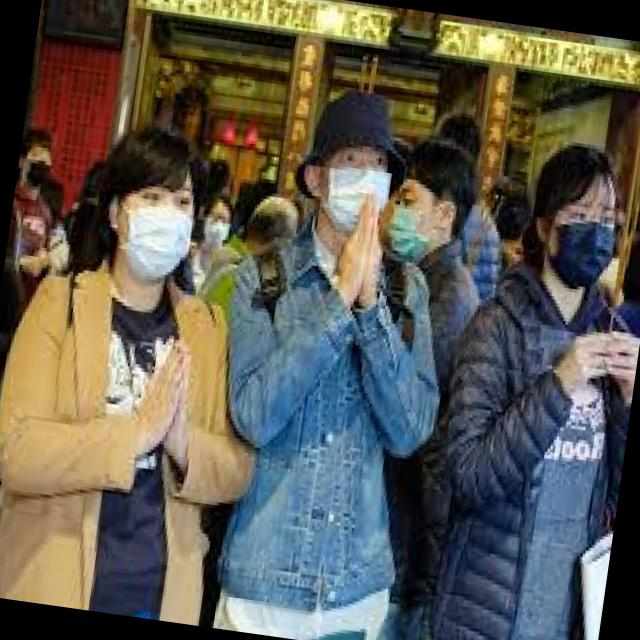Jacket: (401, 240, 640, 640), (211, 210, 421, 640), (0, 242, 229, 623)
